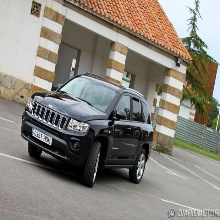no damage: (21, 73, 154, 189)
